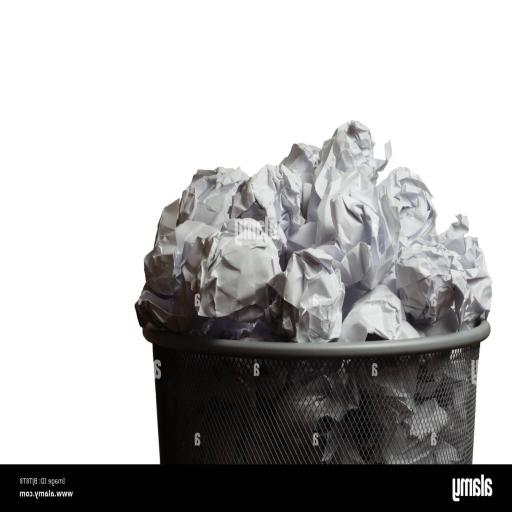Kertas: (134, 119, 493, 464)
